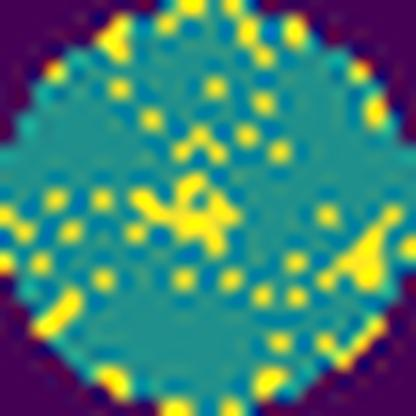Center: (140, 178, 235, 251)
